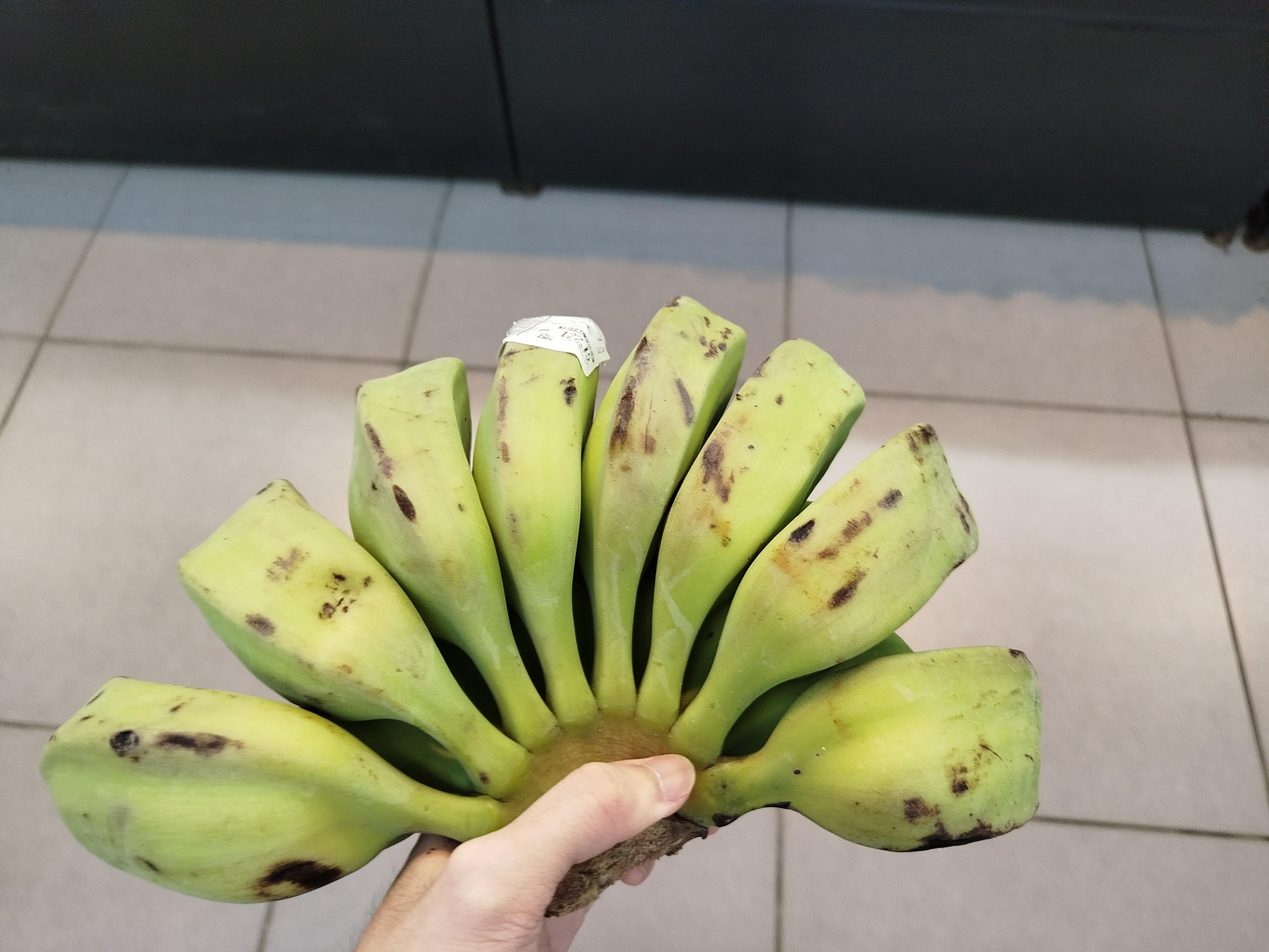underripe: (43, 298, 1040, 902)
